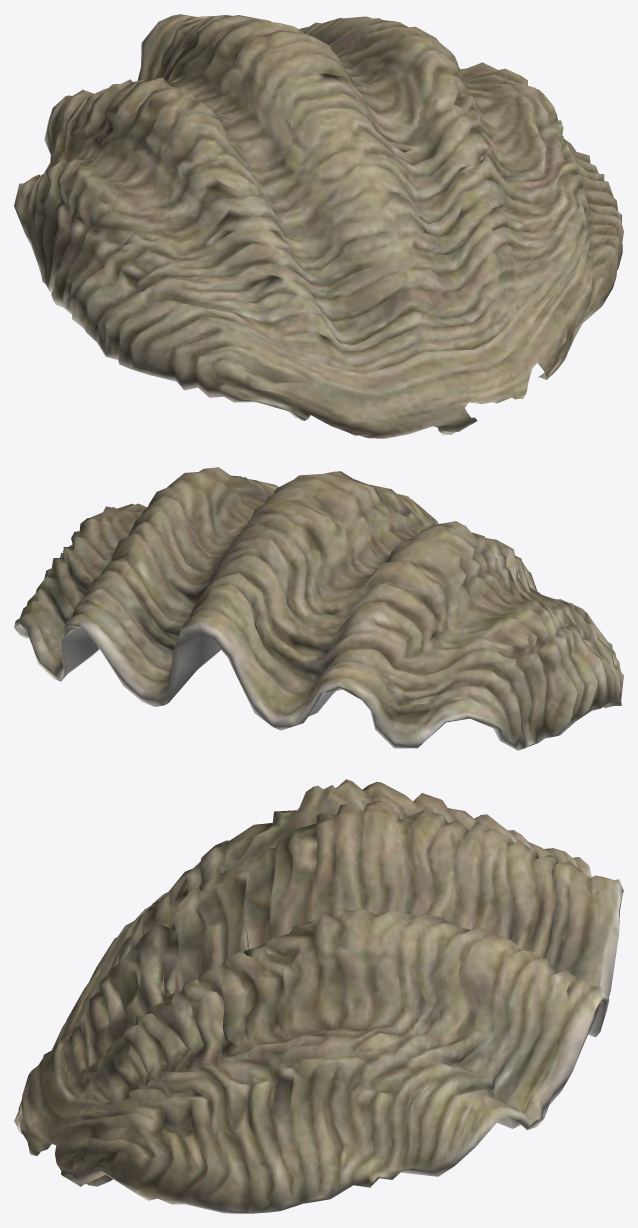
Rendered from clam-top-phone.glb.
The picture shows the model from 3 angles, top to bottom: view 1: azimuth 30°, elevation 25°; view 2: azimuth 150°, elevation 25°; view 3: azimuth 270°, elevation 25°; orthographic projection. The views are drawn at different scales.
Visible parts, largest first — view 1: Model; view 2: Model; view 3: Model.
Part boxes in pixels (x1,y1,x2,y2): Model: (14, 14, 623, 438); Model: (14, 467, 623, 750); Model: (14, 779, 623, 1213).
Bounding box in the file's own units: 1.89 × 0.9662 × 1.68.
Materials: 1 (1 with a texture image).
